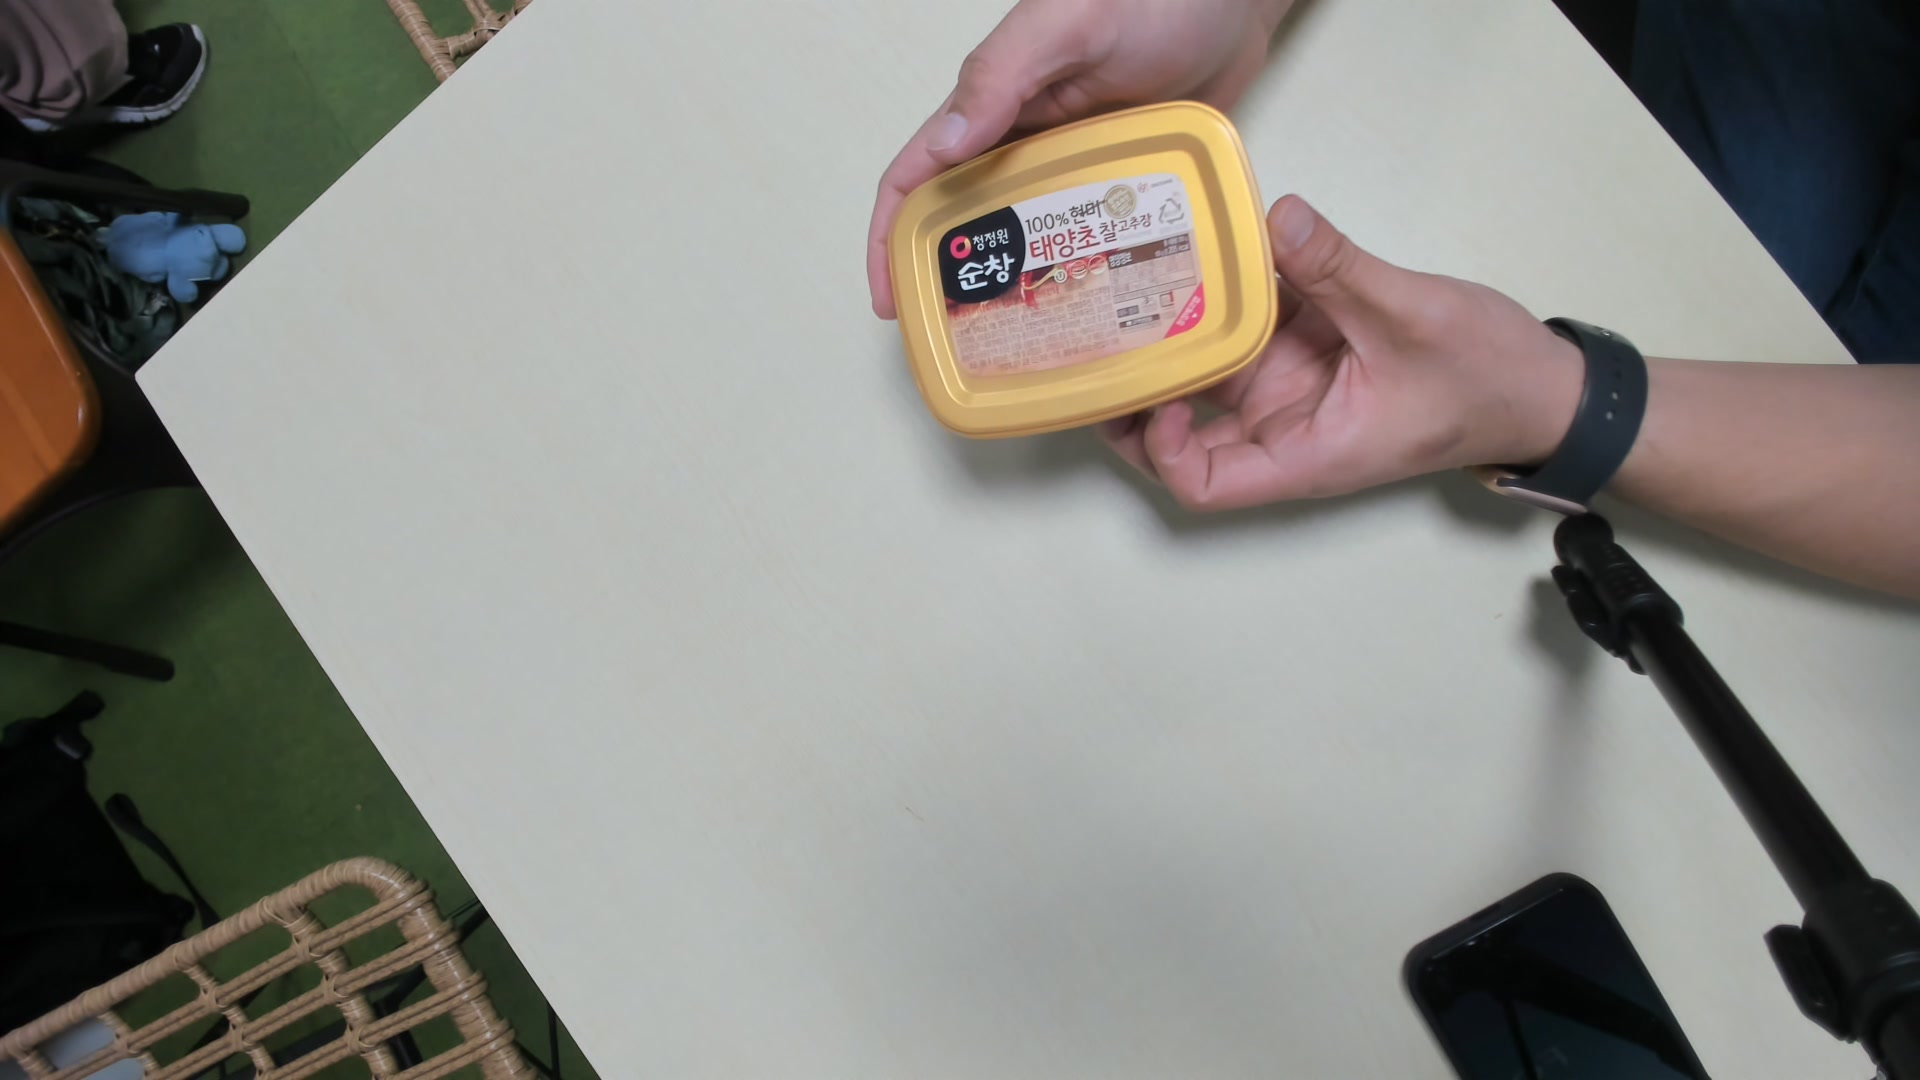OtherSauceDressing_200-299g_NonHalal_NonHealthy: (905, 107, 1273, 430)
